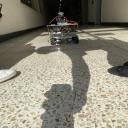cart: (47, 24, 79, 45)
